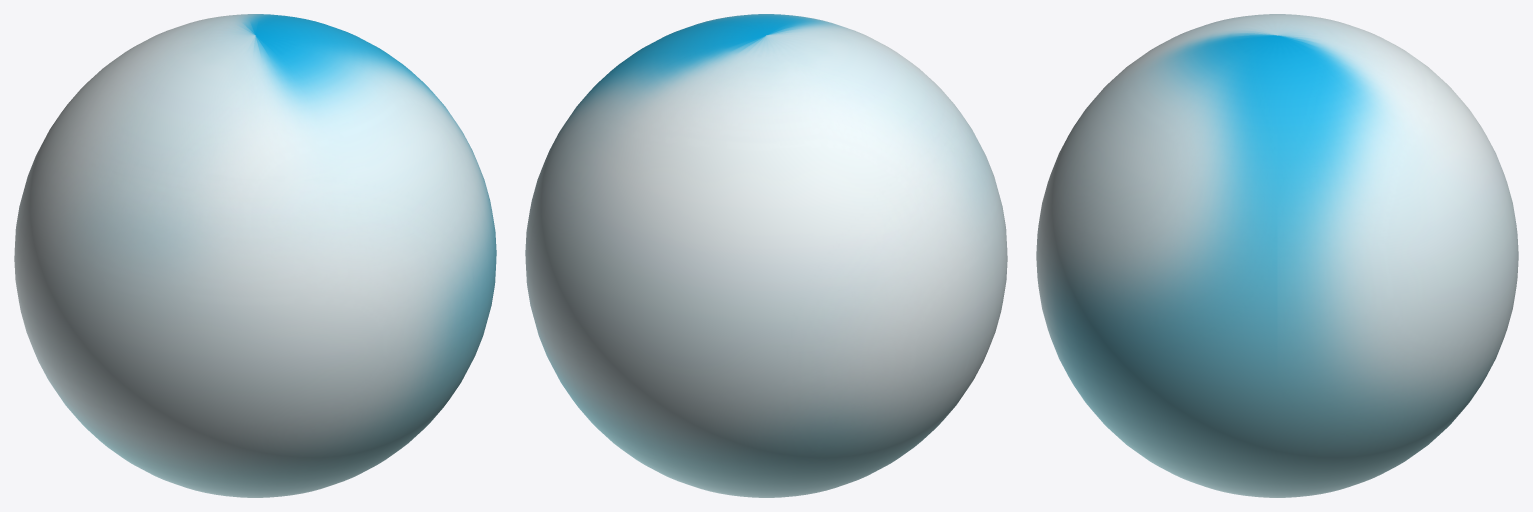
File: skyIsland.fbx
The picture shows the model from 3 angles, left to right: view 1: azimuth 30°, elevation 25°; view 2: azimuth 150°, elevation 25°; view 3: azimuth 270°, elevation 25°; orthographic projection.
Visible parts, largest first — view 1: sky; view 2: sky; view 3: sky.
Part boxes in pixels (bbox=[...]): sky: bbox=[14, 14, 496, 497]; sky: bbox=[525, 14, 1007, 497]; sky: bbox=[1036, 14, 1518, 497].
Size of the model in its own units: 1188 by 1199 by 1188.
